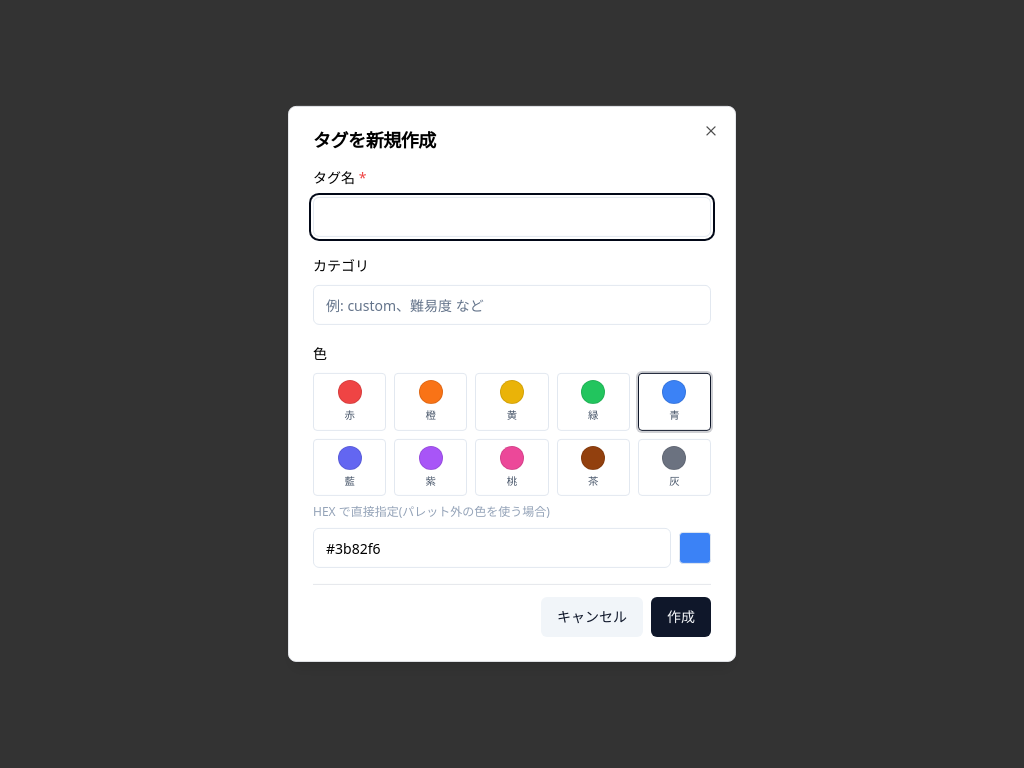
Test case: TagFormDialog › 色フォーマット違反でエラーが表示される
In the field labelled "タグ名 *": [512, 217] box [313, 197, 711, 237], type "テスト"
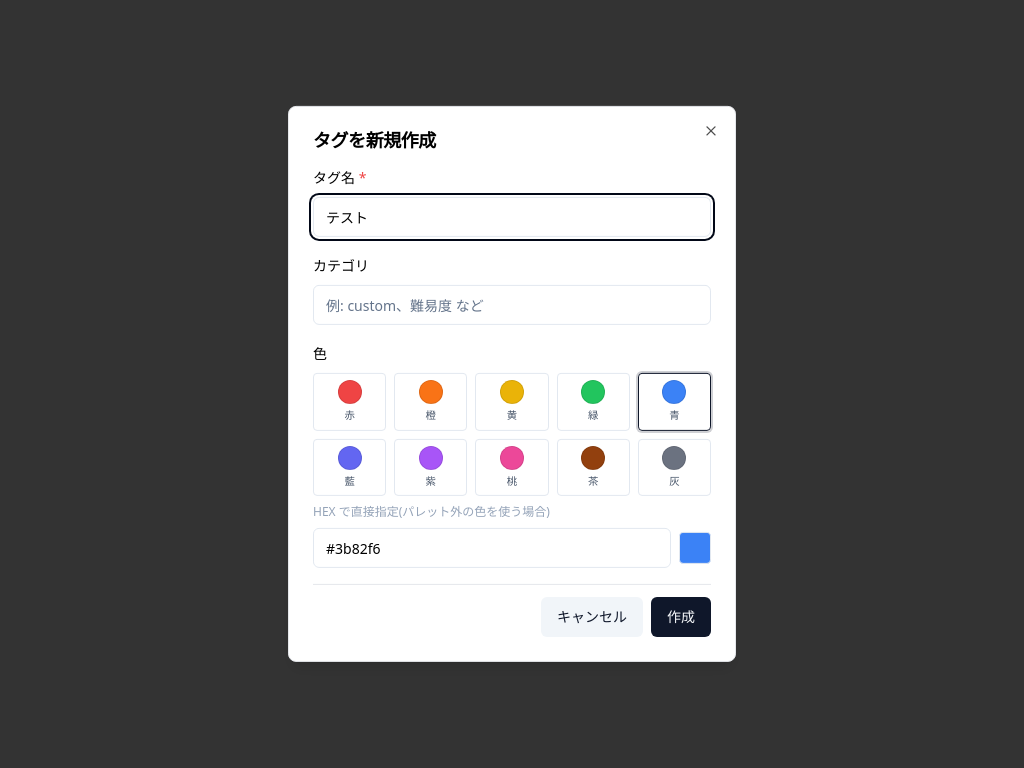
In the field with test id "color-input": [492, 548] box [313, 528, 671, 568], type "invalid-color"
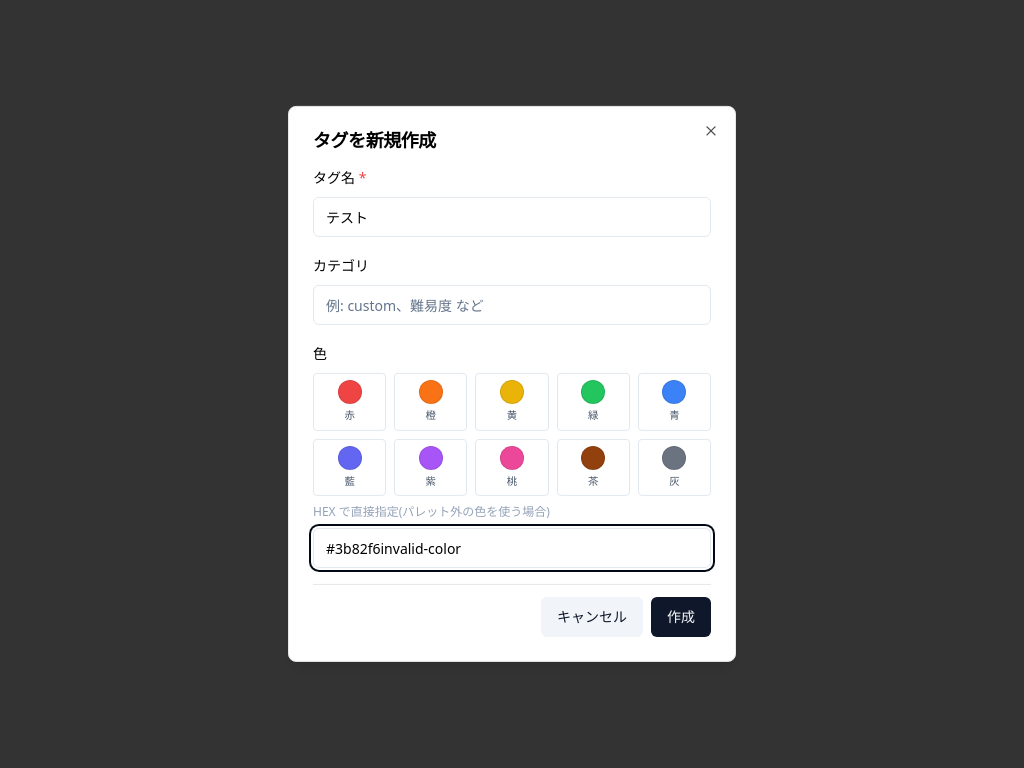
Click the button "作成": [681, 617] box [651, 597, 711, 637]
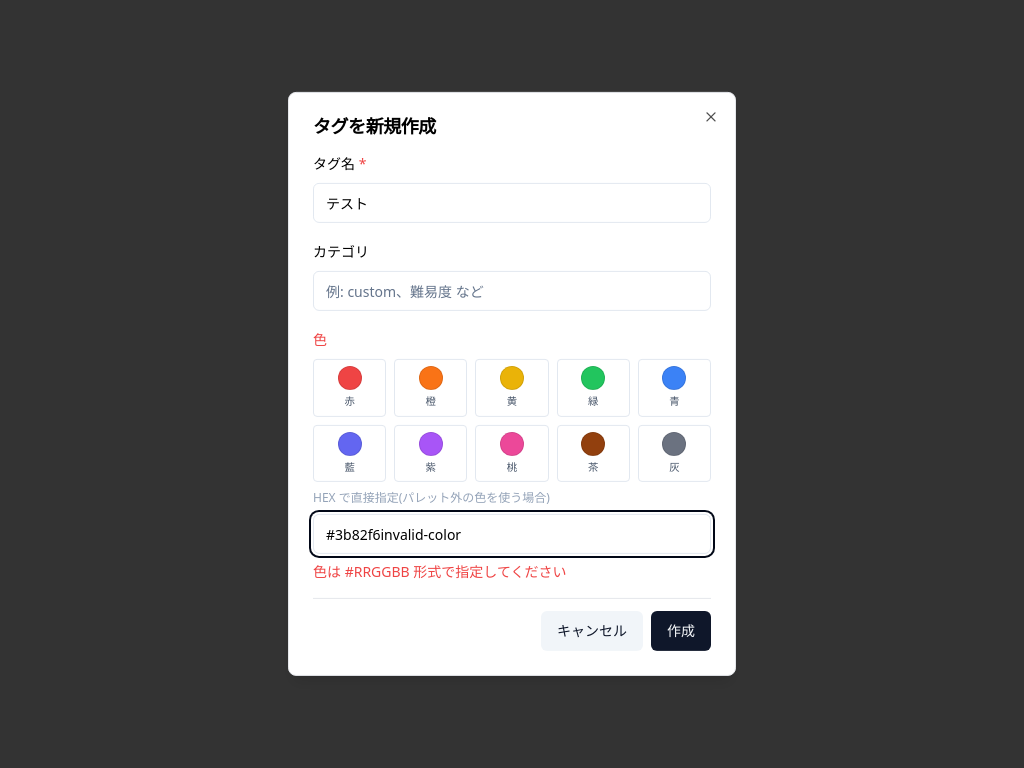
expect the text "色は #RRGGBB 形式で指定してください" is shown: met, box [313, 562, 566, 581]
